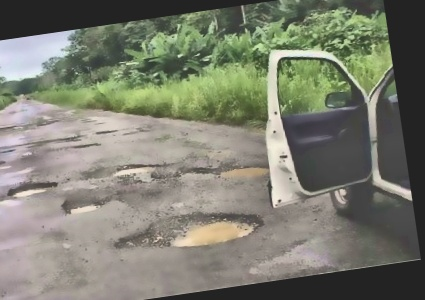pothole: (109, 200, 268, 259), (212, 157, 272, 182), (3, 178, 58, 199), (60, 195, 103, 217), (111, 160, 158, 178), (70, 139, 101, 151), (0, 158, 3, 176)
